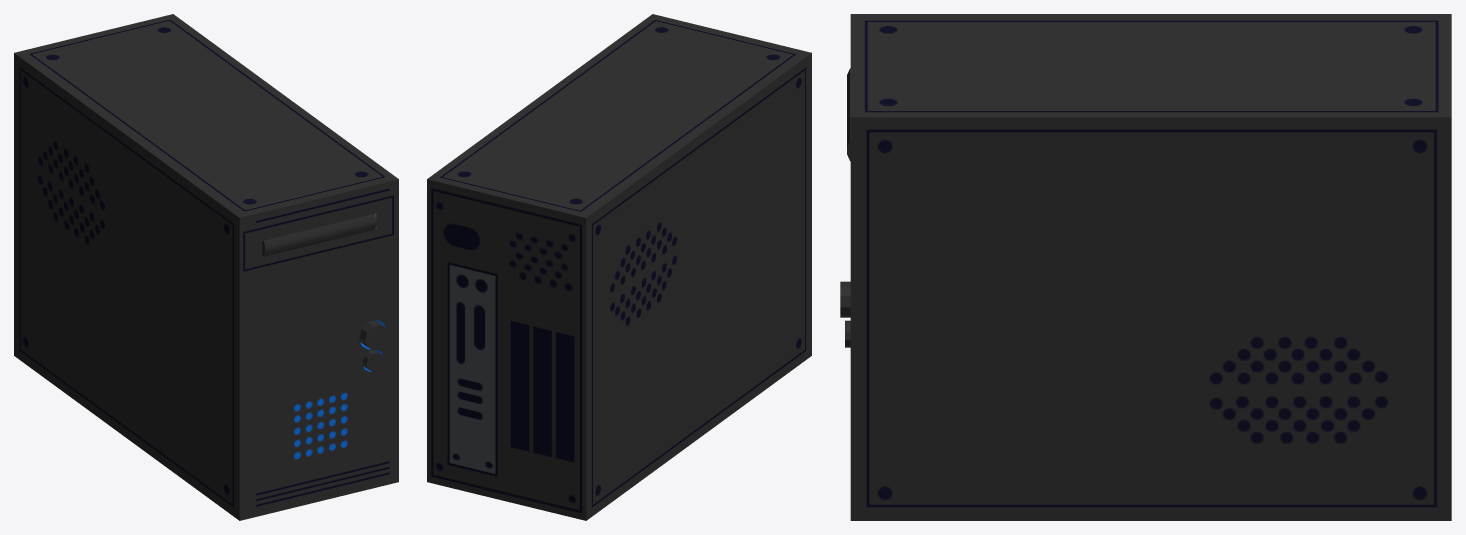
Rendered from computer.glb.
The picture shows the model from 3 angles, left to right: view 1: azimuth 30°, elevation 25°; view 2: azimuth 150°, elevation 25°; view 3: azimuth 270°, elevation 25°; orthographic projection. The views are drawn at different scales.
Visible parts, largest first — view 1: System_unit, Drive; view 2: System_unit; view 3: System_unit.
Part boxes in pixels (<box>): System_unit: <box>14,14,398,520</box>; Drive: <box>262,214,376,256</box>; System_unit: <box>427,14,811,520</box>; System_unit: <box>840,14,1451,520</box>.
Bounding box in the file's own units: 154 × 280 × 384.
Materials: 2 (1 with a texture image).
